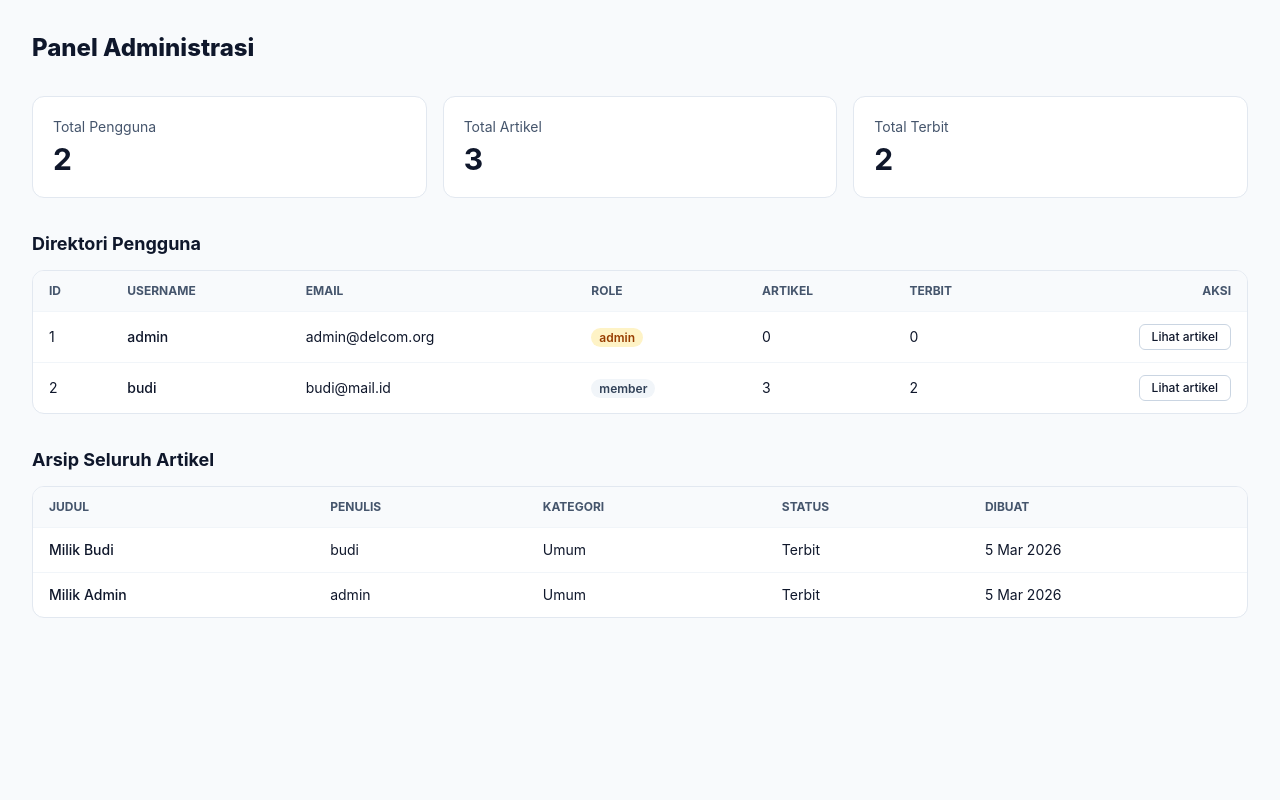
Test case: AdminDashboard › melihat artikel milik pengguna tertentu lalu kembali ke semua
The image size is (1280, 800).
Expected: the text "budi@mail.id" is shown, [290,362,575,413]
Click the button with aria-label "Lihat artikel budi".
click(1185, 388)  # box [1139,375,1231,401]
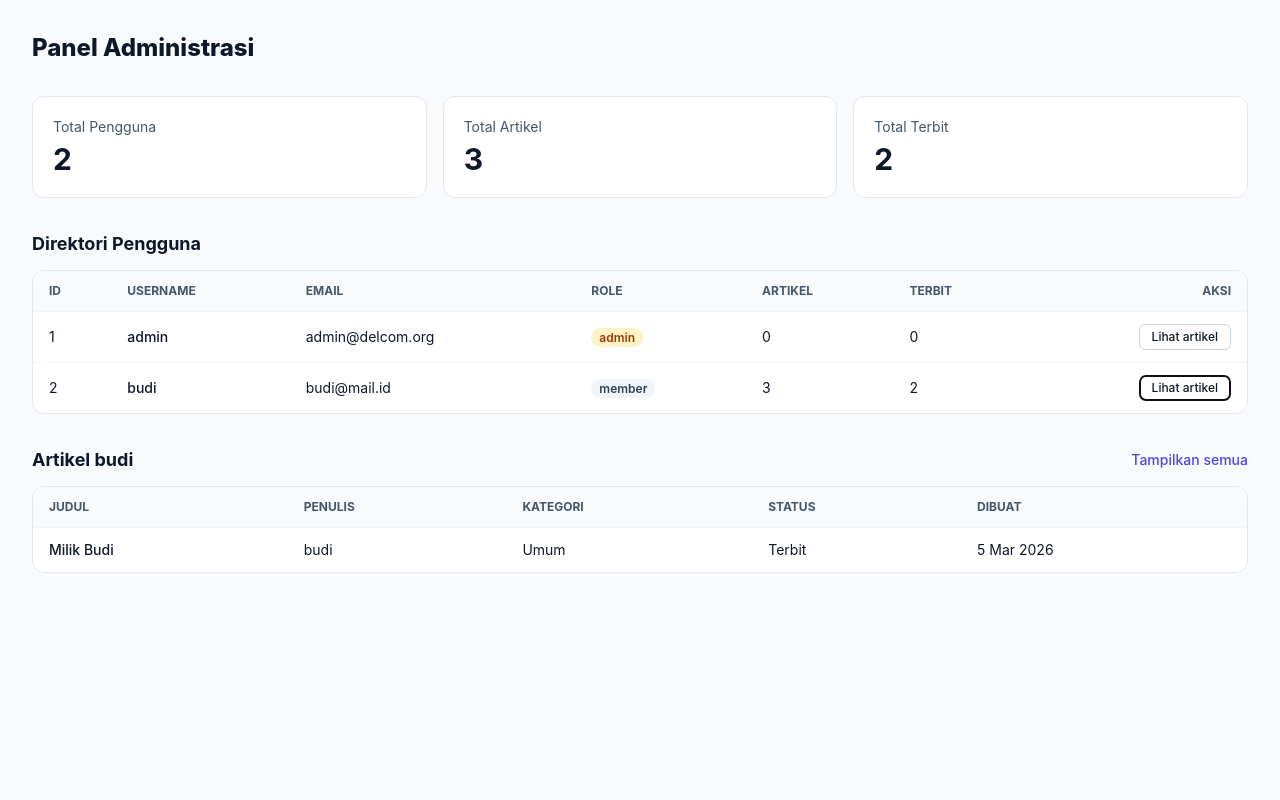
Now the heading "Artikel budi" is shown, box [32,446,133,474]
Now the text "Milik Admin" is gone
Click the button "Tampilkan semua".
click(1190, 460)  # box [1131,450,1248,470]
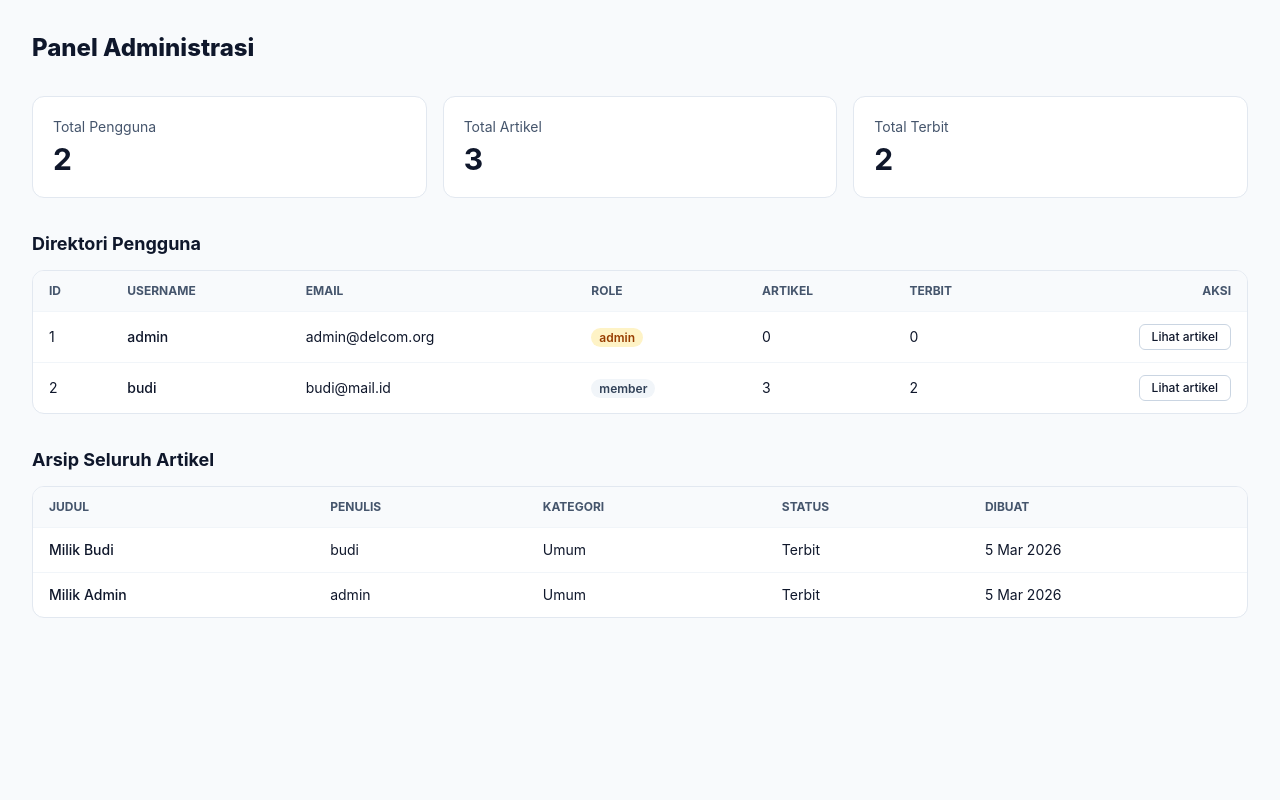
Now the text "Milik Admin" is shown, box [33,572,314,617]
Now the button "Tampilkan semua" is gone
